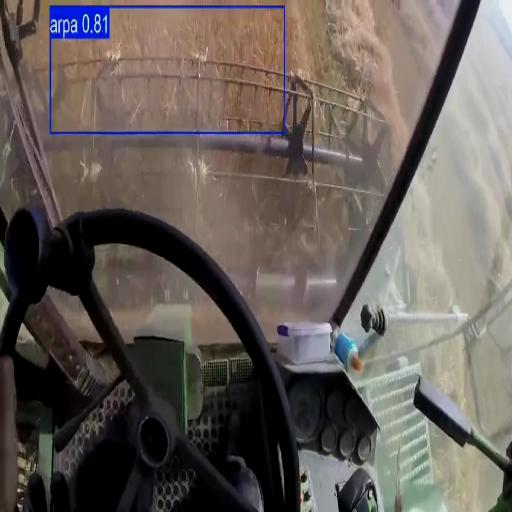arpa: (52, 150, 394, 261), (54, 11, 284, 131), (285, 0, 408, 166)
